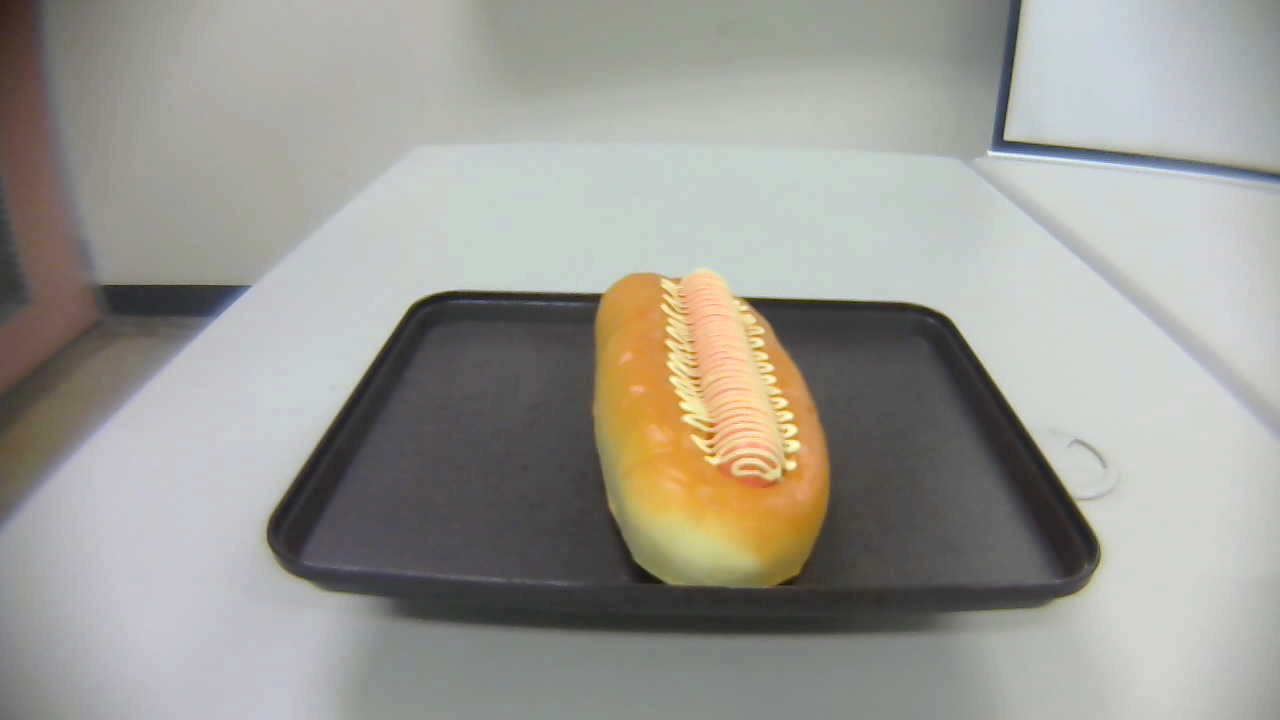hot dog: (590, 269, 831, 588)
